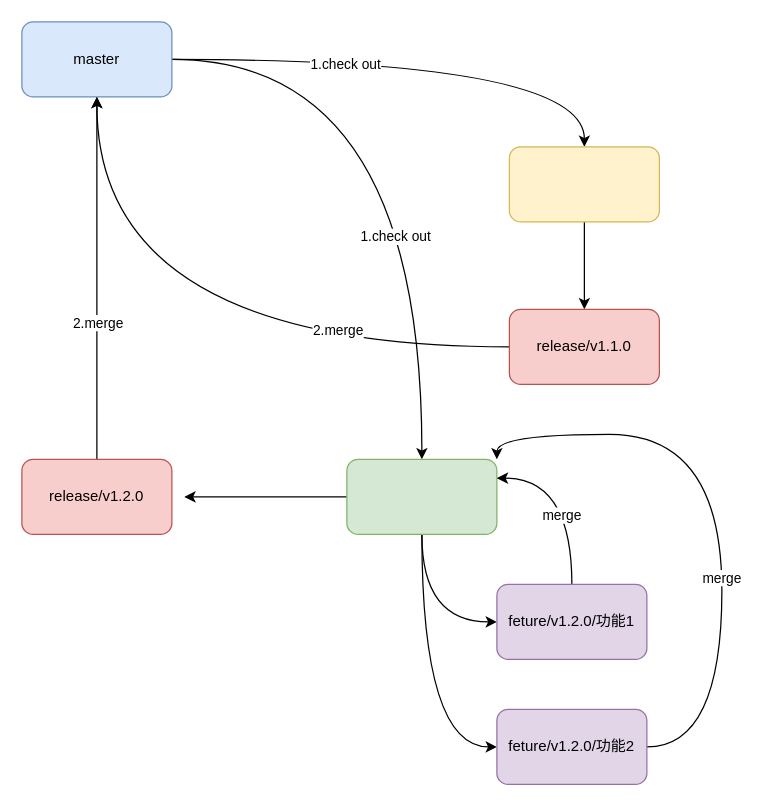
Some shapes in this 763 by 806 pixel diagram are drawn without their labels. Each missing label, with the centre of its shape:
develop/v1.2.0: (x=421, y=496)
hotfix/v1.1.0: (x=583, y=184)
